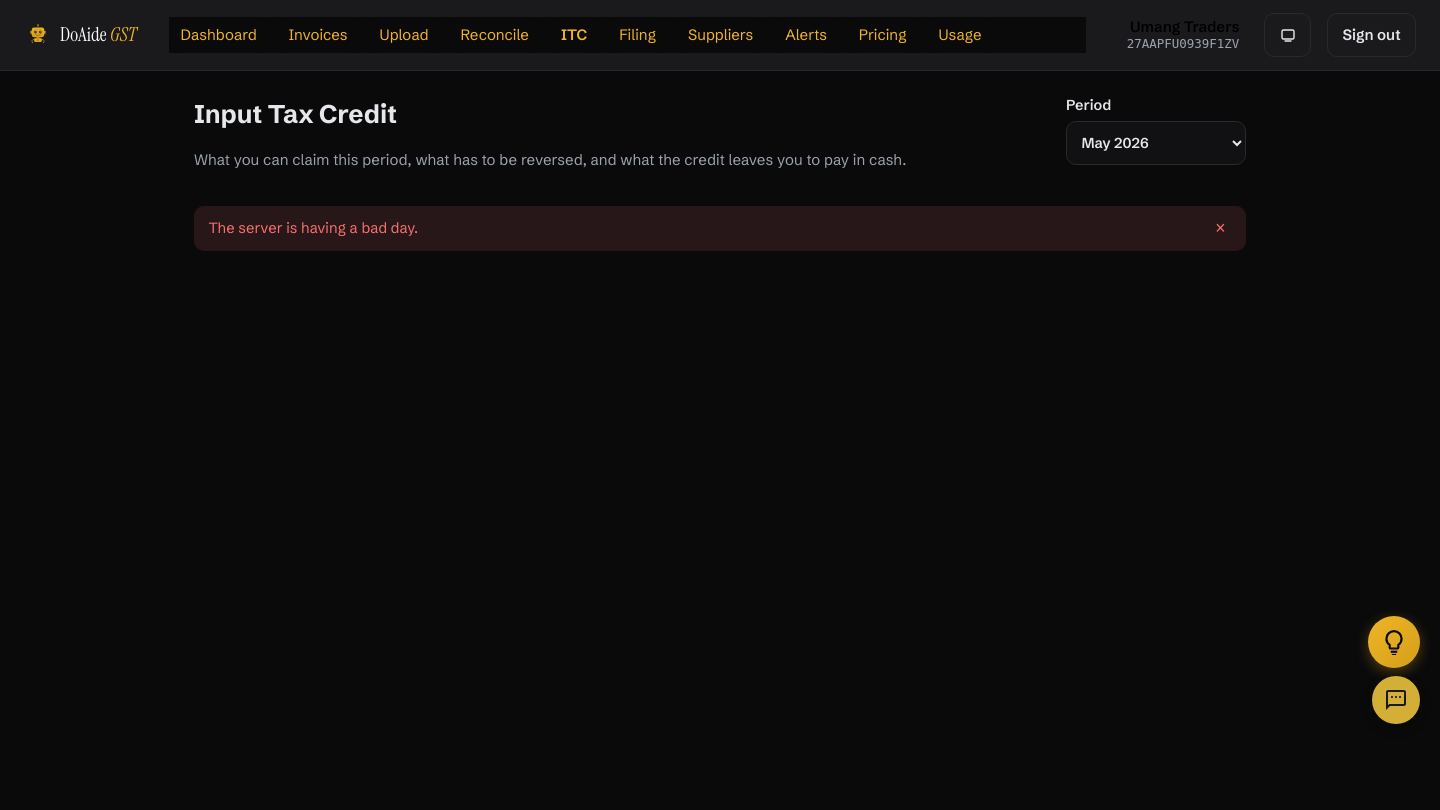
dismissing the error a page reports › /itc lets the user close it
Click the button named "Dismiss". click: click(1220, 229)
box: x1=1209 y1=217 x2=1232 y2=240
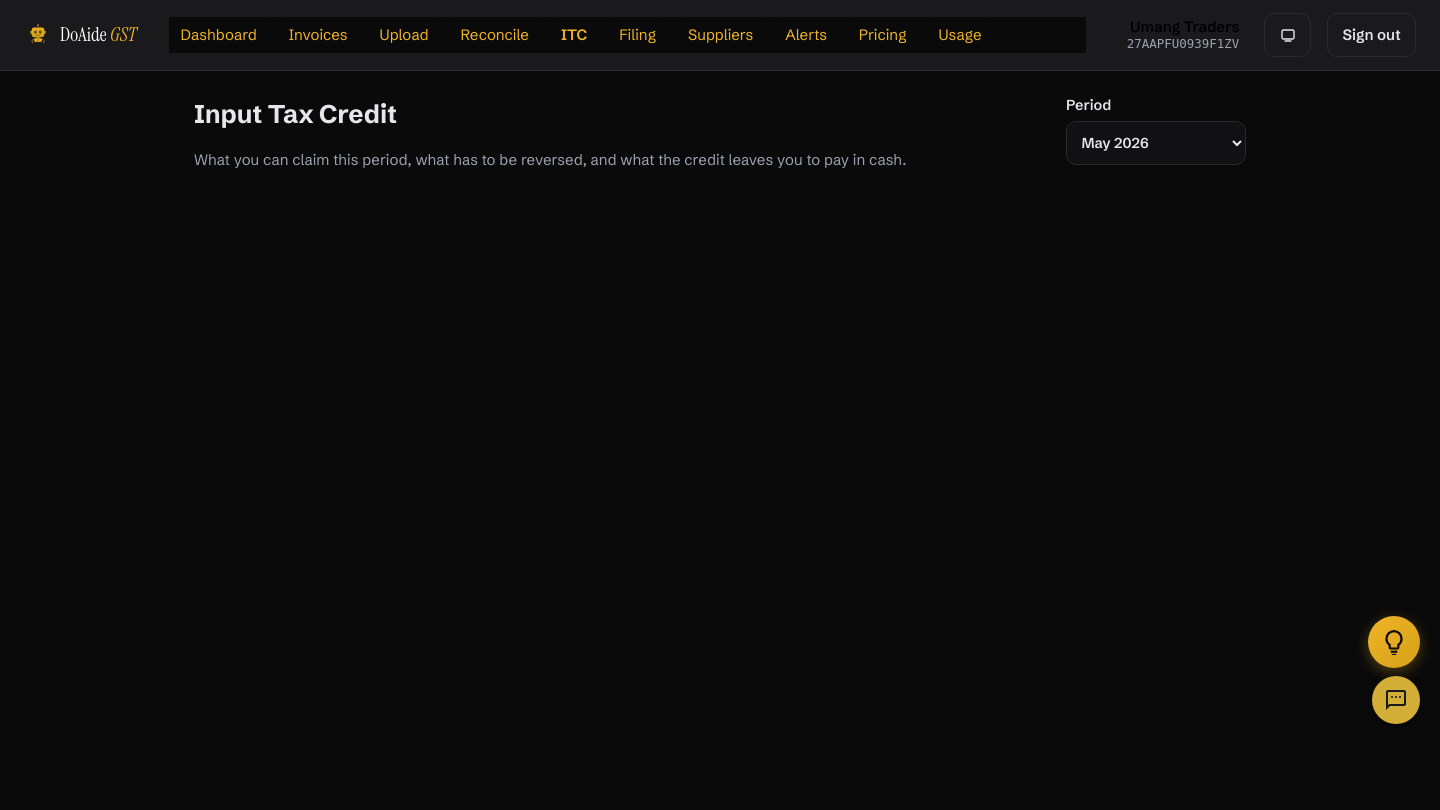
Check: the heading "Input Tax Credit" is shown, box x1=194 y1=98 x2=397 y2=130
Check: the message "The server is having a bad day. ×" is gone
